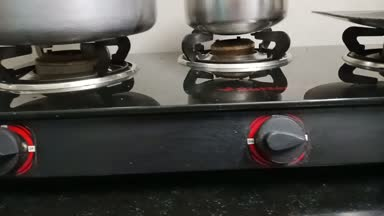flame_gas_off: (192, 31, 312, 167)
